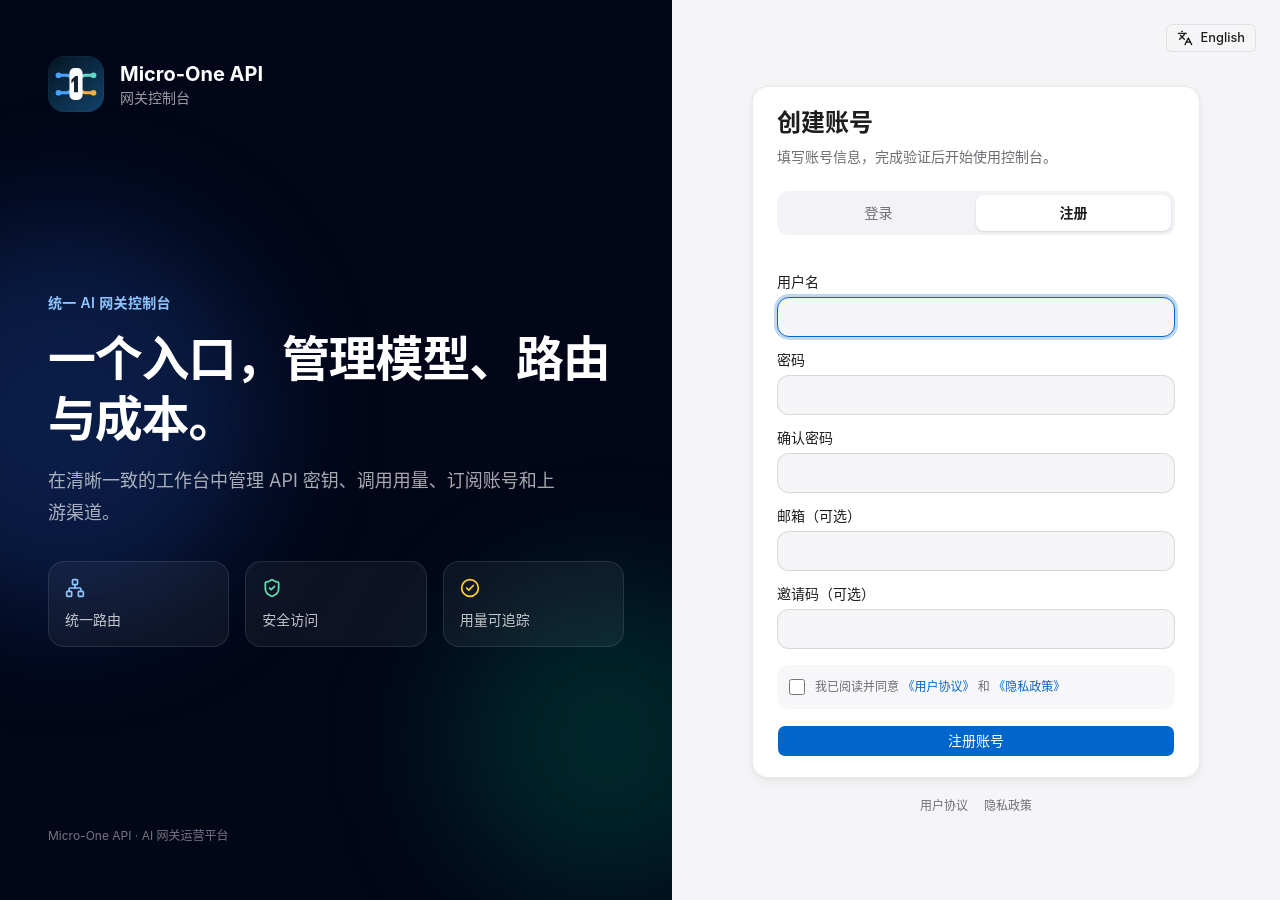
Test case: LoginPage › associates registration validation errors with the form panel
Type "alice" into the field labelled "用户名" at (976, 317), box [777,297,1175,337]
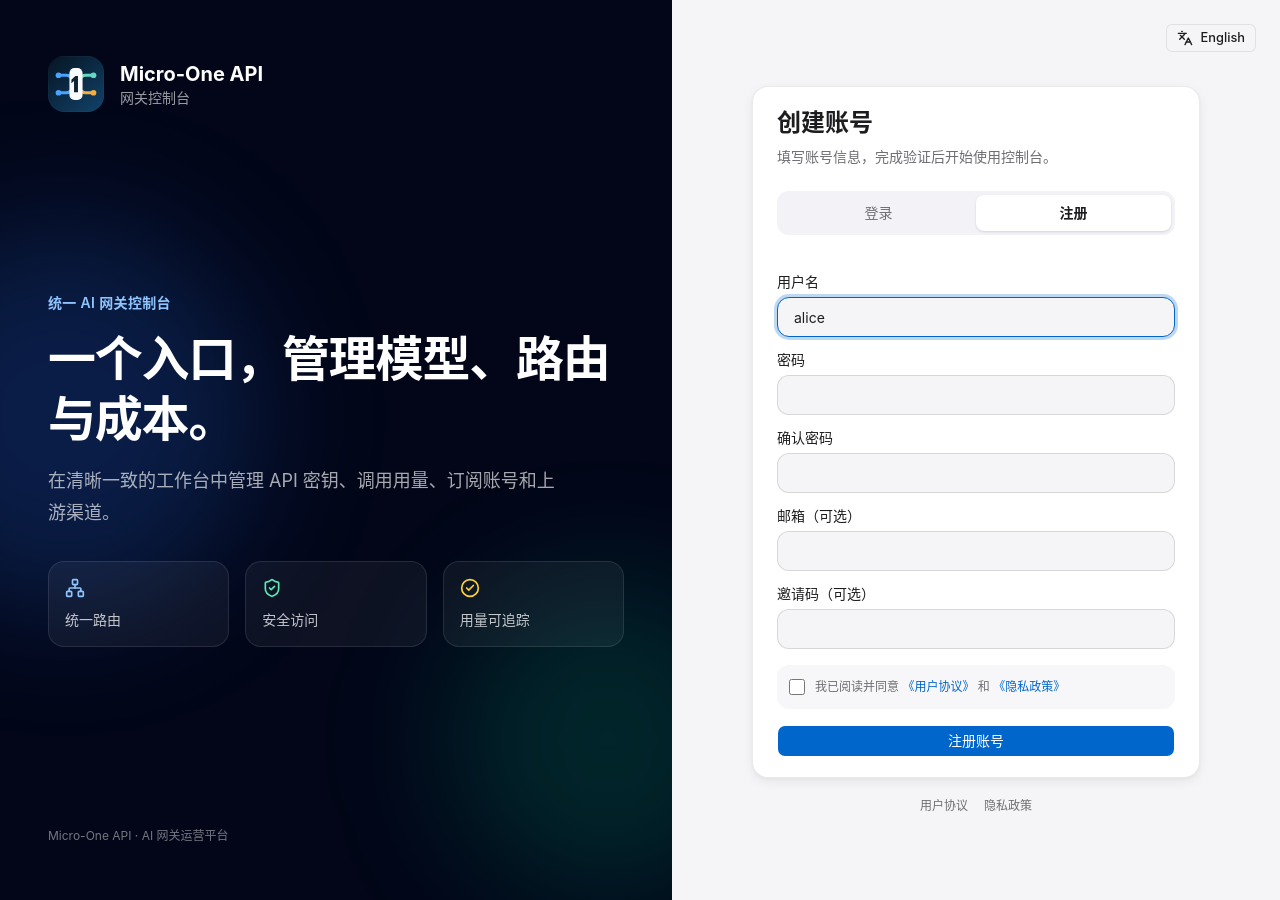
Type "password-1" into the password field labelled "密码" at (976, 395), box [777,375,1175,415]
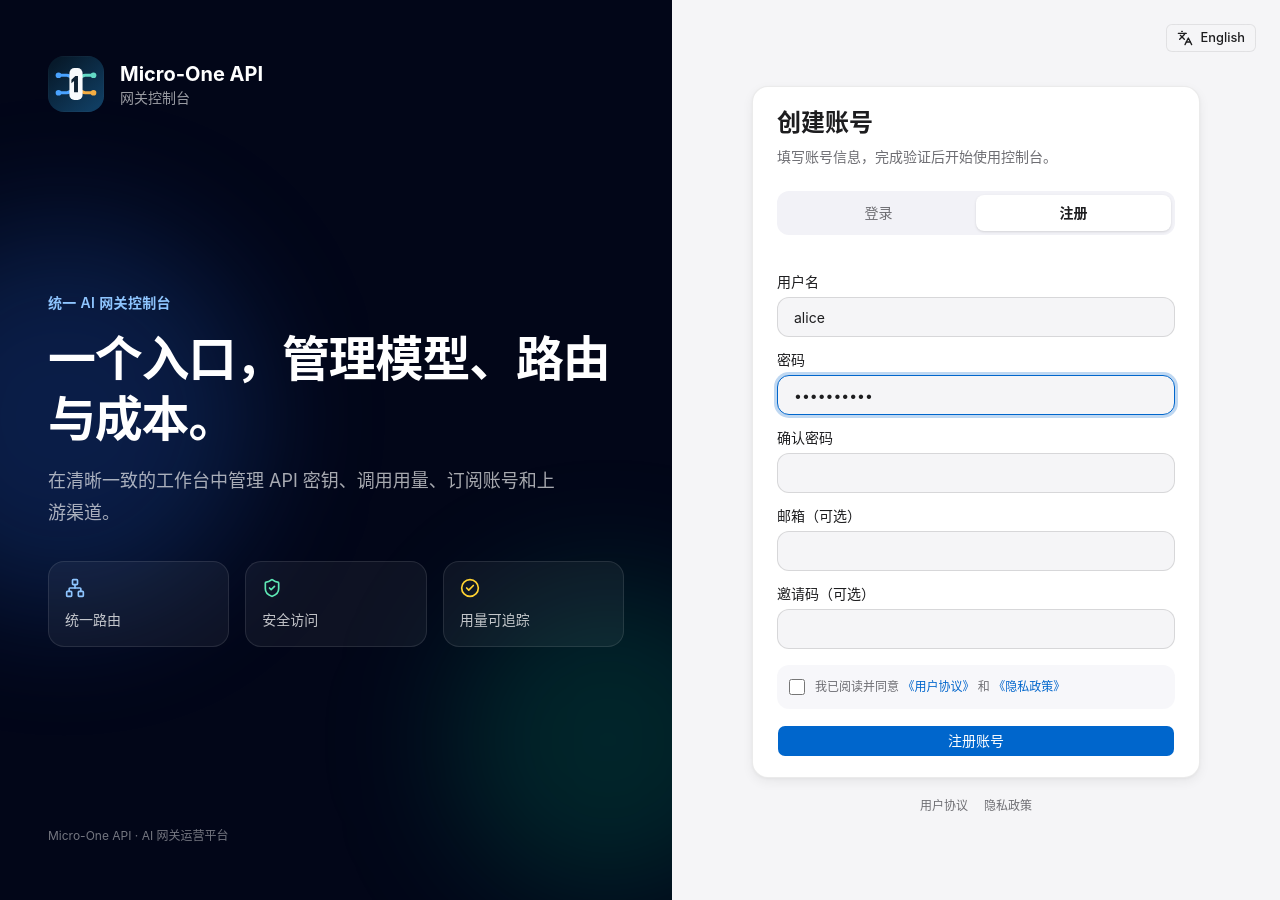
Type "password-2" into the password field labelled "确认密码" at (976, 473), box [777,453,1175,493]
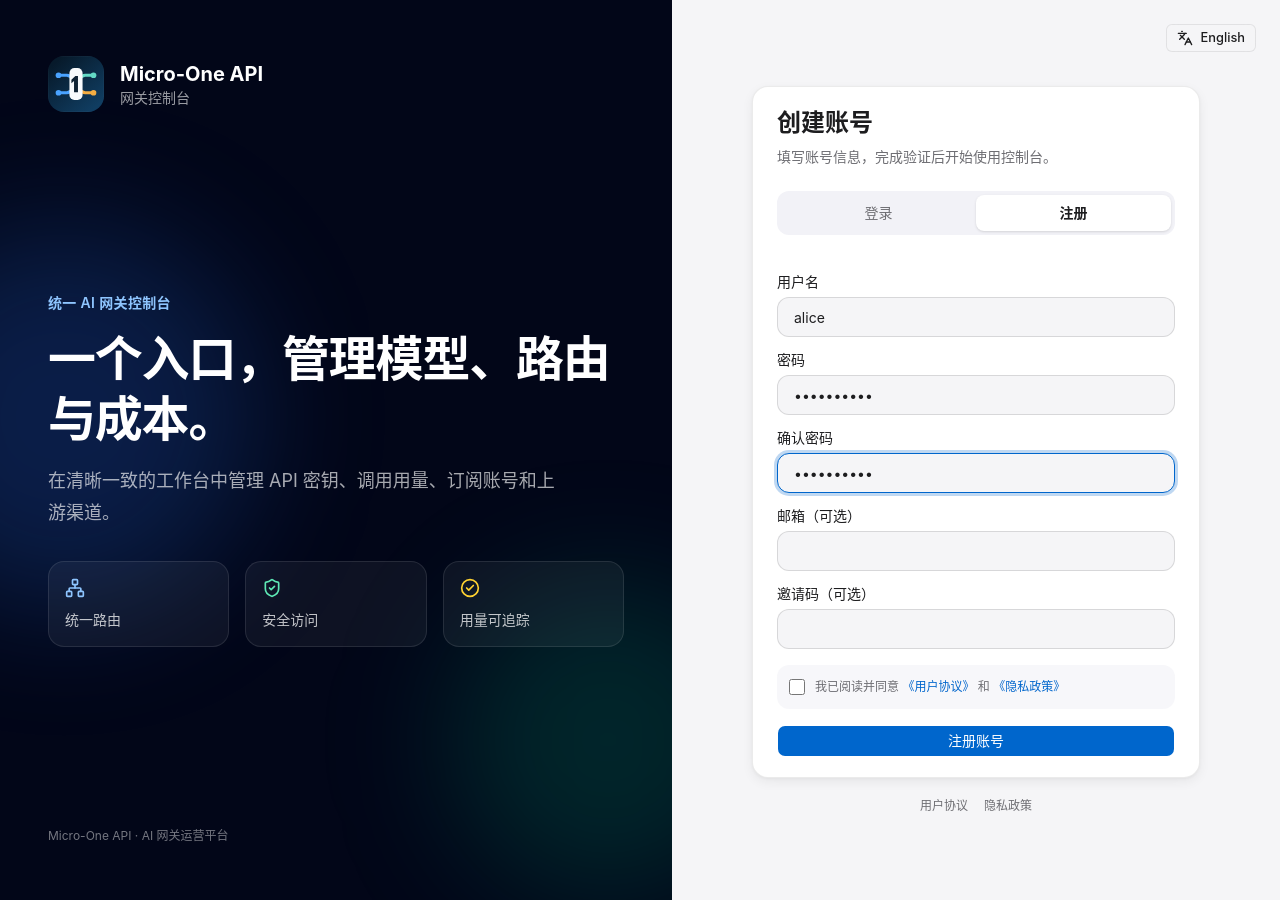
Click the button "注册账号" at (976, 741), box [777,725,1175,757]
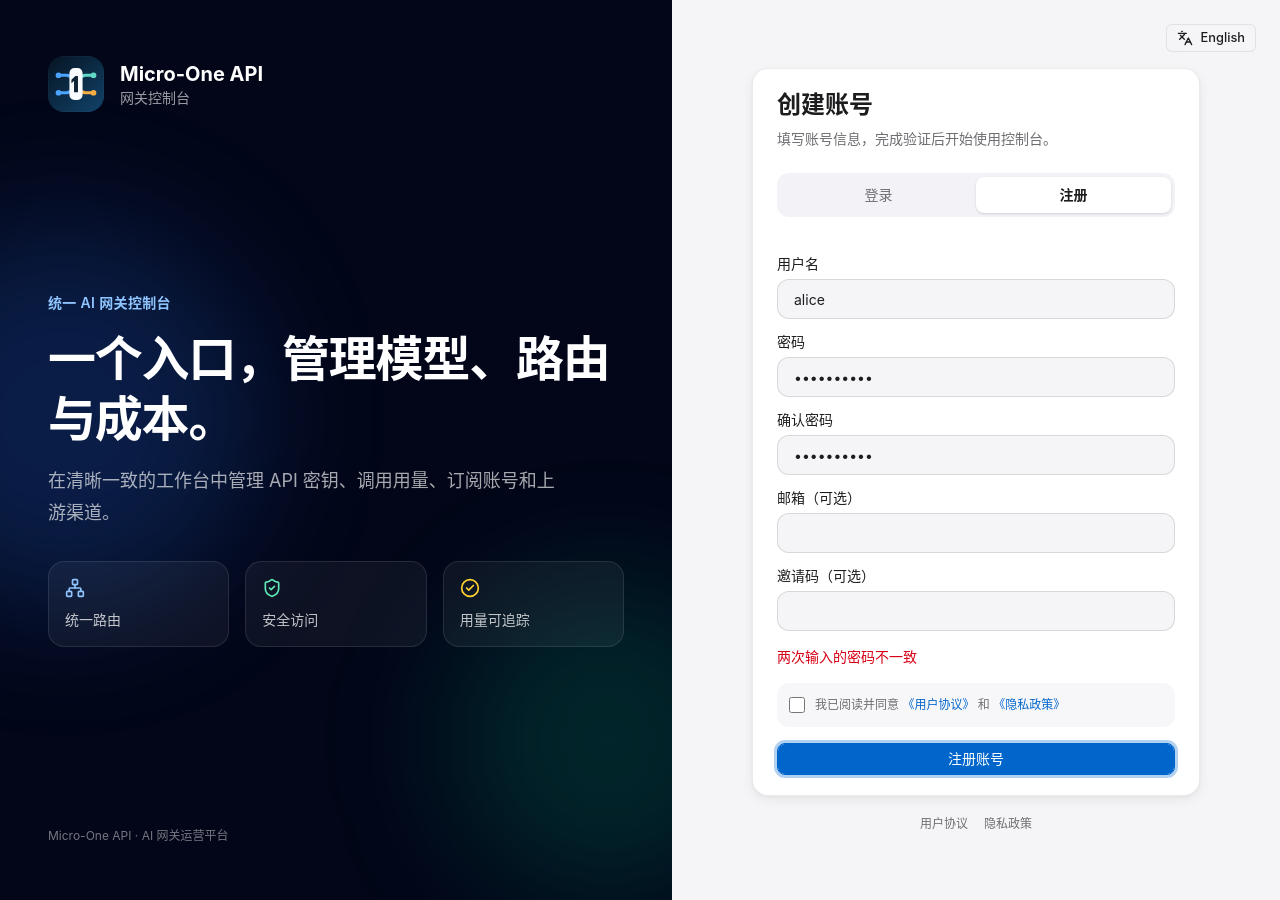
Expected: the message reads "两次输入的密码不一致", [777,648,917,665]
